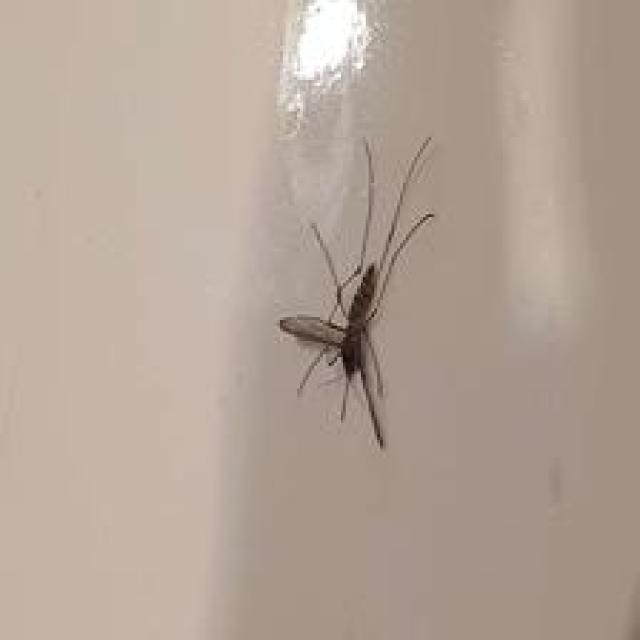Culex: (276, 134, 436, 449)
